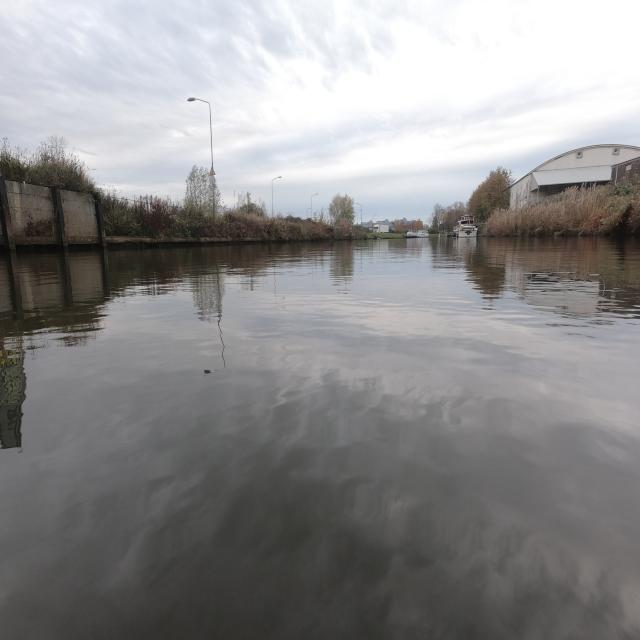boat: (453, 215, 477, 237), (407, 230, 427, 238)
reed: (104, 196, 371, 242), (482, 183, 639, 235)
sky: (1, 0, 639, 219)
wall: (1, 180, 101, 247)
water: (1, 234, 638, 639)
